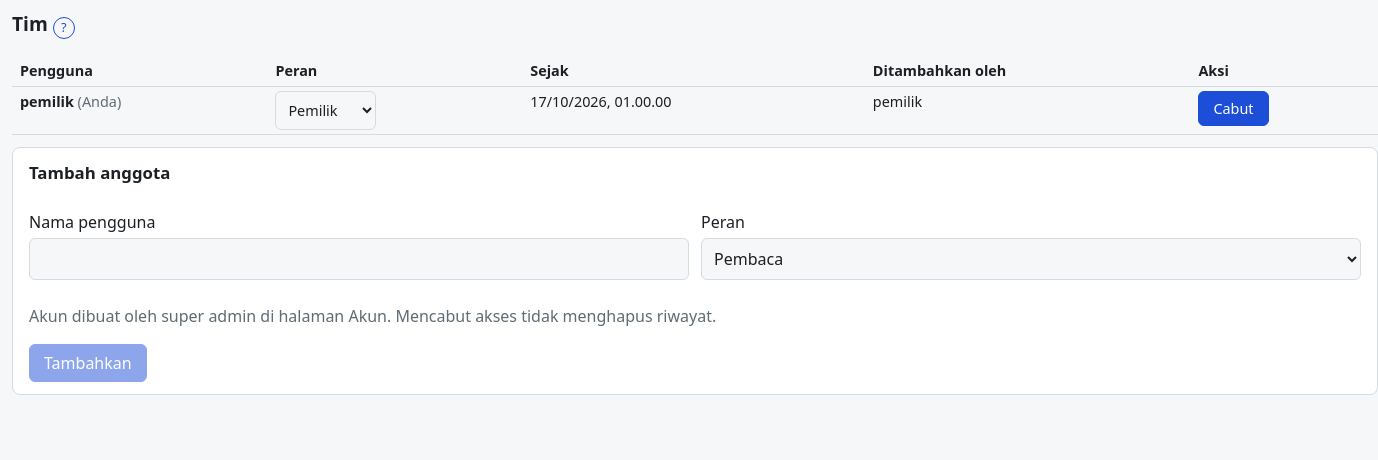
Test case: TeamPanel: menambah anggota › mengirim nama dan peran, mengosongkan isian, memuat ulang daftar
Expected: the table named "Anggota" is shown, x1=12 y1=56 x2=1377 y2=135
Type "  sari  " into the field labelled "Nama pengguna" at (359, 259), box x1=29 y1=238 x2=689 y2=280
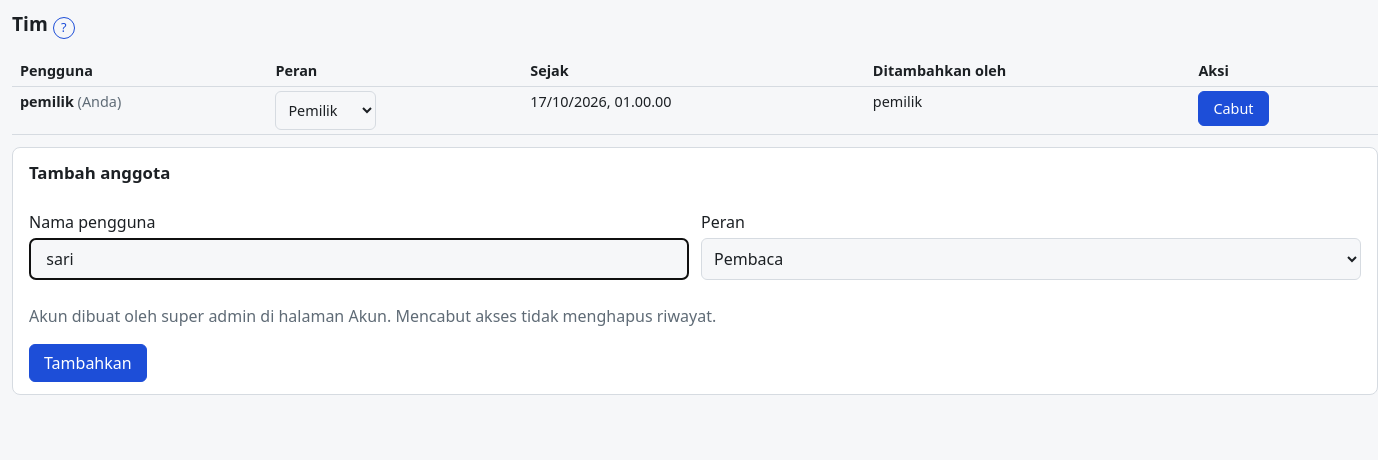
Select "Anggota" in the dropdown labelled "Peran" at (1031, 259), box x1=701 y1=238 x2=1361 y2=280
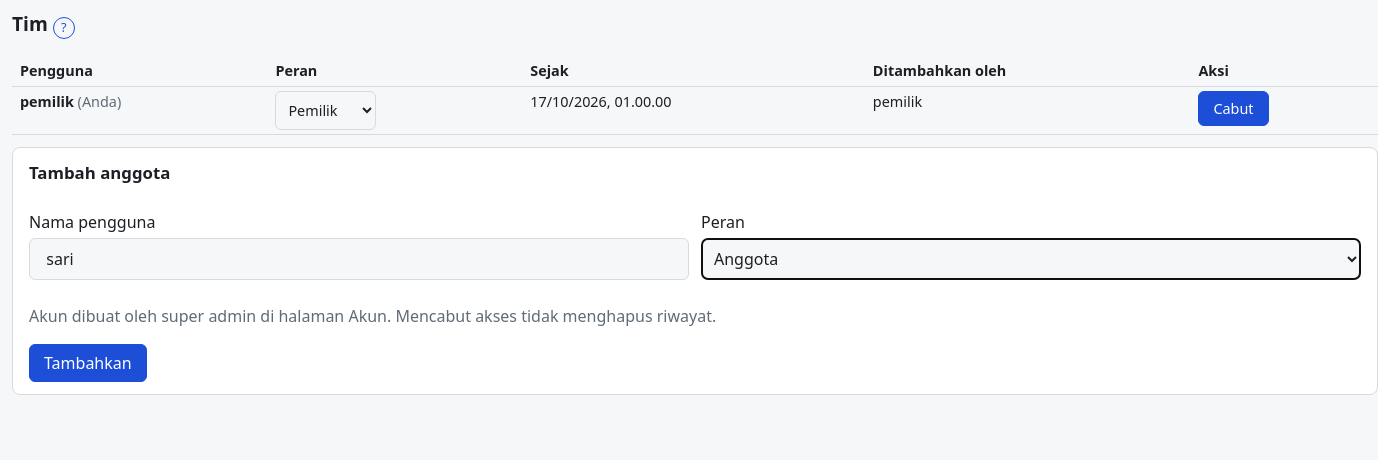
Click the button "Tambahkan" at (88, 363), box x1=29 y1=344 x2=147 y2=382
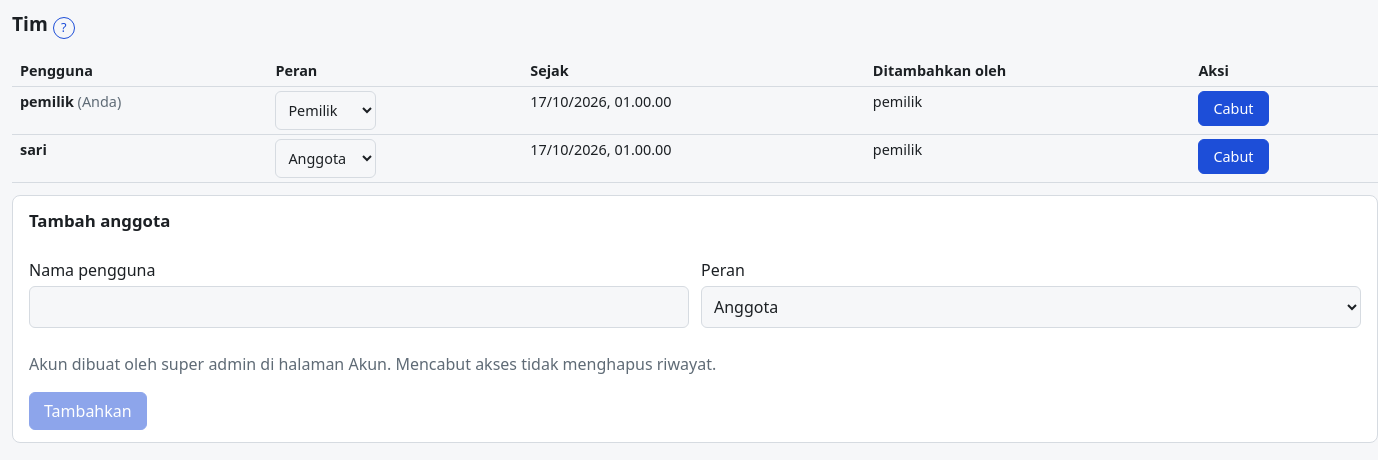
Expected: the text "sari" is shown, x1=20 y1=140 x2=47 y2=159
Expected: the field labelled "Nama pengguna" is empty, x1=29 y1=286 x2=689 y2=328
